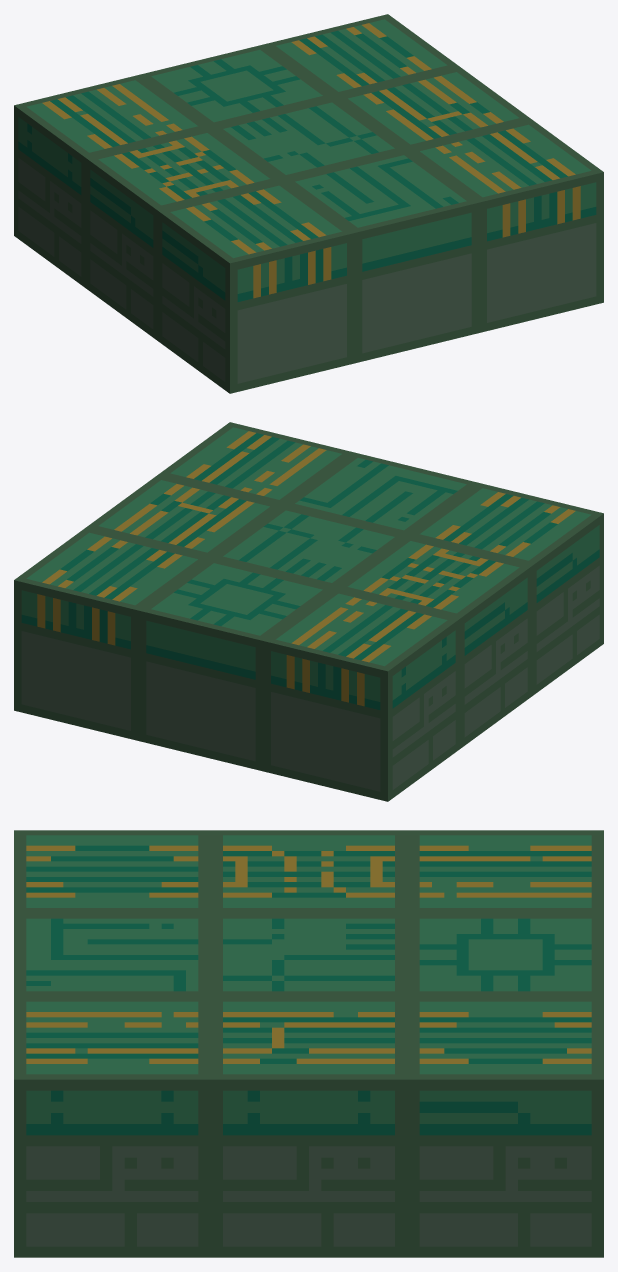
Rendered from m_tiles_11_3x3.fbx.
3 views of the same model, one above another, from view 1: azimuth 30°, elevation 25°; view 2: azimuth 150°, elevation 25°; view 3: azimuth 270°, elevation 25° (orthographic). The views are drawn at different scales.
Parts seen in each view (by area): view 1: m_tiles_11_3x3; view 2: m_tiles_11_3x3; view 3: m_tiles_11_3x3.
Boxes of the visible parts, <box> form: m_tiles_11_3x3: <box>14,14,603,393</box>; m_tiles_11_3x3: <box>14,422,603,801</box>; m_tiles_11_3x3: <box>14,830,603,1257</box>.
Size of the model in its own units: 4.8 by 1.6 by 4.8.
1 material, 1 textured.
